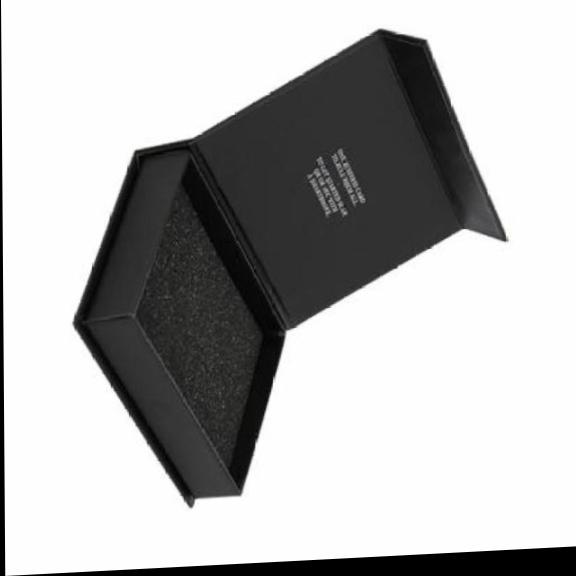Kertas: (73, 30, 506, 506)
